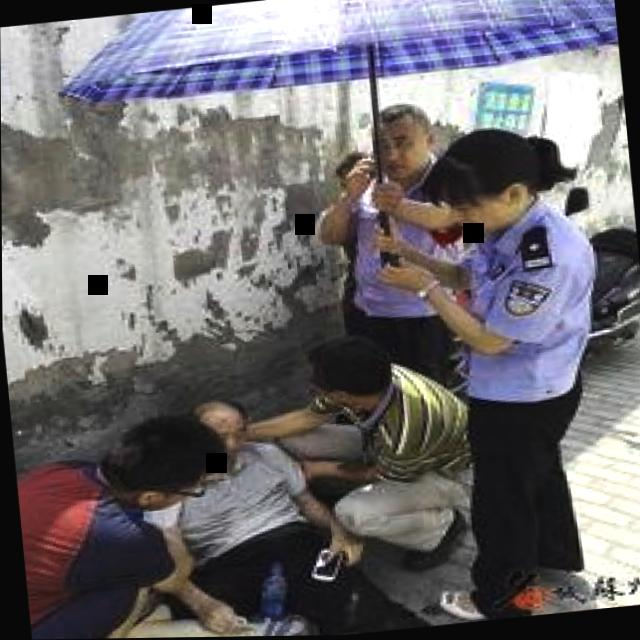Fall-Detected: (119, 365, 474, 639)
